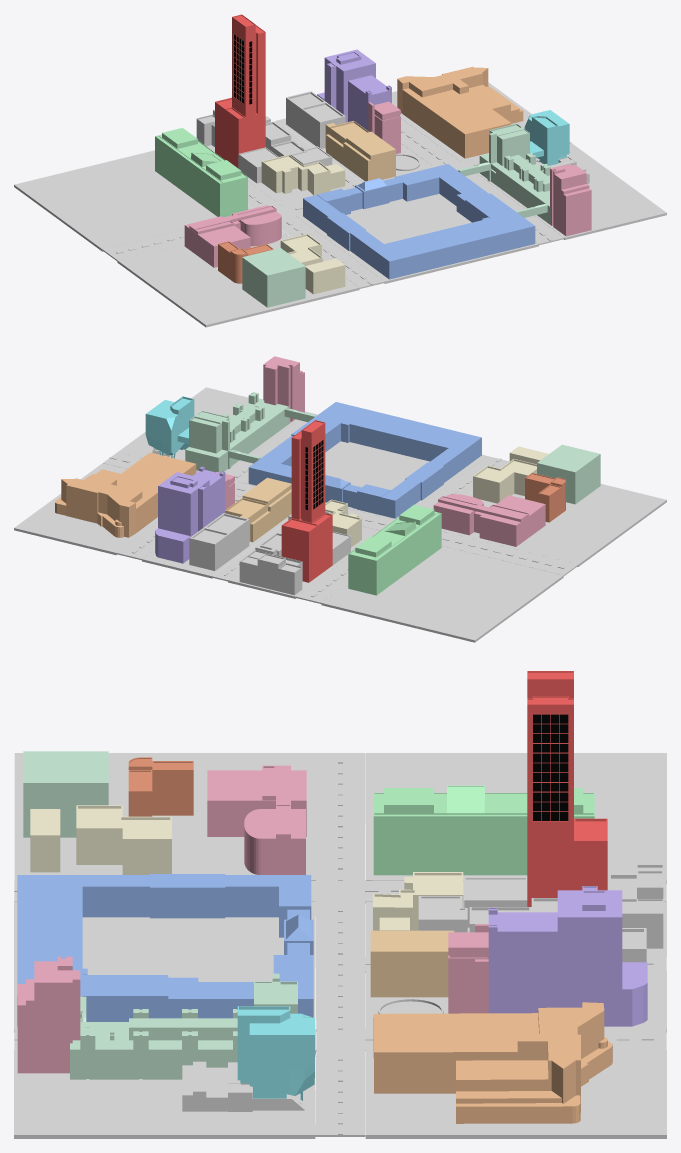
The model's file is rye.glb.
3 views of the same model, one above another, from view 1: azimuth 30°, elevation 25°; view 2: azimuth 150°, elevation 25°; view 3: azimuth 270°, elevation 25° (orthographic). The views are drawn at different scales.
Parts seen in each view (by area): view 1: RightSection, Q12, Q11, Q22Left, Q22Right, Q21, Roads; view 2: RightSection, Q12, Q22Left, Q11, Q22Right, Q21, Roads; view 3: RightSection, Q11, Q12, Q21, Q22Left, Q22Right, Roads.
Boxes of the visible parts, x1,y1,x2,y2 form: RightSection: (14,128,359,327); Q12: (297,164,538,283); Q11: (458,110,666,239); Q22Left: (206,49,433,205); Q22Right: (196,14,345,195); Q21: (392,66,531,161); Roads: (103,118,577,288); RightSection: (321,444,666,642); Q12: (246,402,487,519); Q22Left: (142,466,379,598); Q11: (118,356,316,472); Q22Right: (239,420,361,595); Q21: (14,452,196,555); Roads: (103,412,578,603); RightSection: (14,751,666,883); Q11: (14,956,315,1138); Q12: (14,874,315,1032); Q21: (365,1002,666,1138); Q22Left: (365,886,666,1032); Q22Right: (373,671,663,948); Roads: (14,753,666,1136).
Size of the model in its own units: 18 by 5.37 by 13.
